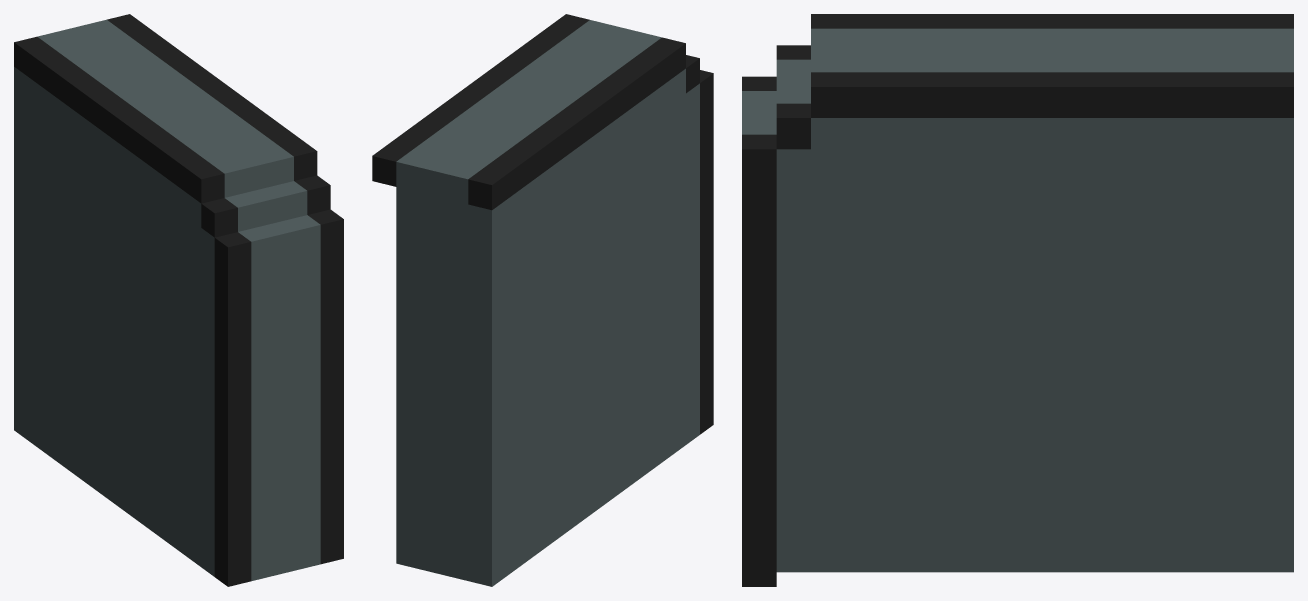
File: BombBoxAngle.obj
3 renders of one model, left to right at view 1: azimuth 30°, elevation 25°; view 2: azimuth 150°, elevation 25°; view 3: azimuth 270°, elevation 25°, orthographic. The views are drawn at different scales.
Bounding box in the file's own units: 0.5 × 1.6 × 1.6.
Materials: 1 (1 with a texture image).
